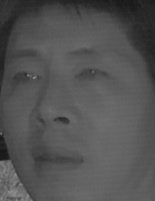eye: (74, 62, 108, 87), (9, 68, 42, 88)
mouth: (28, 142, 86, 177)
